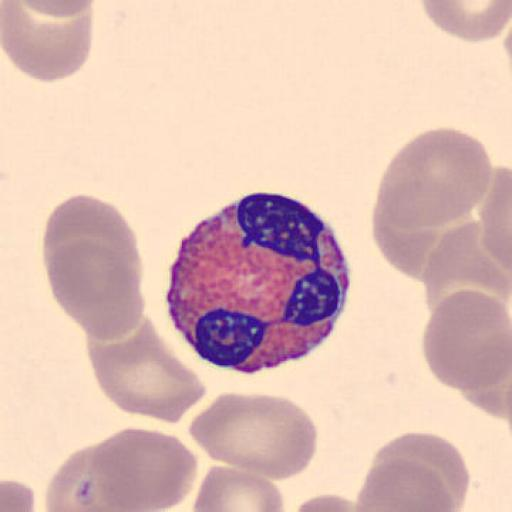RBC: (372, 126, 494, 280), (40, 194, 144, 342), (88, 315, 208, 424), (431, 181, 512, 334), (421, 288, 512, 420), (189, 391, 320, 482), (380, 126, 494, 227), (44, 238, 147, 340), (421, 216, 512, 328), (42, 193, 143, 291), (90, 426, 199, 512), (370, 177, 458, 281), (370, 431, 471, 510), (1, 0, 94, 83), (44, 443, 142, 512), (354, 457, 457, 512), (192, 464, 286, 512), (418, 0, 512, 44), (479, 163, 512, 277), (14, 0, 98, 20), (291, 491, 363, 512), (1, 476, 36, 512)
WBC: (164, 189, 352, 374)
